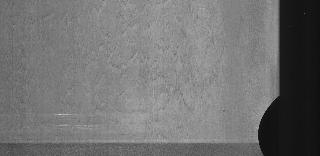welding line: (1, 138, 276, 148)
